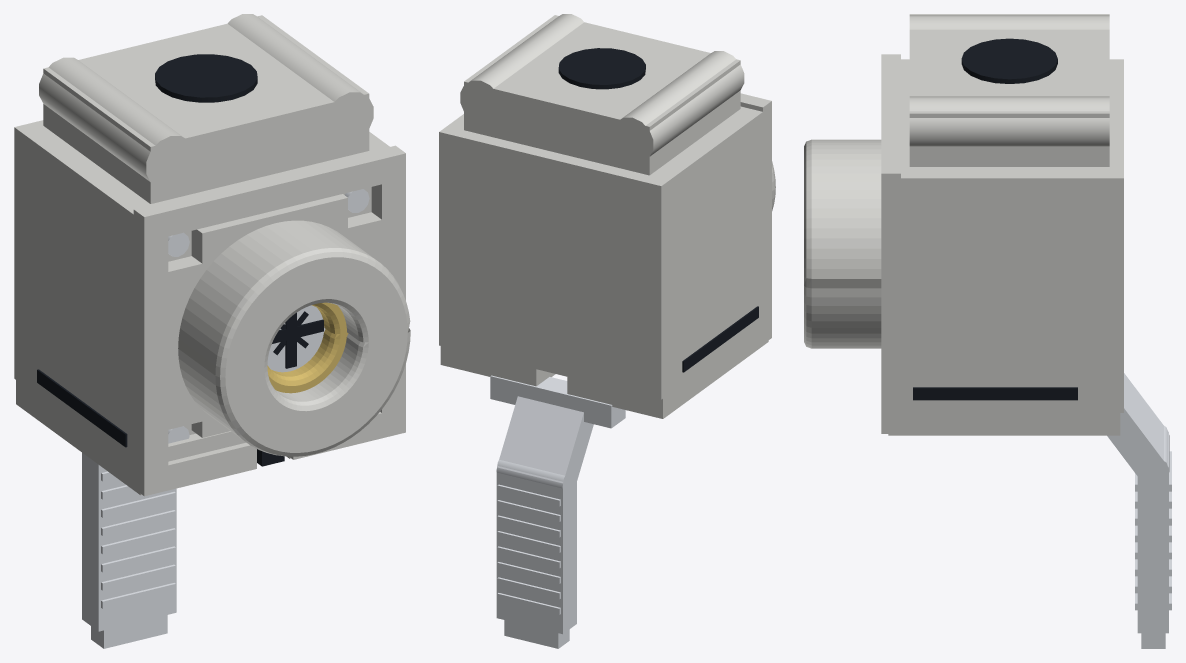
Rendered from conector-barramento-pente.glb.
3 views of the same model, side by side, from view 1: azimuth 30°, elevation 25°; view 2: azimuth 150°, elevation 25°; view 3: azimuth 270°, elevation 25° (orthographic). The views are drawn at different scales.
Visible parts, largest first — view 1: comb-connector-pa66, comb-connector-tinned-pin, comb-connector-bore, comb-connector-cage; view 2: comb-connector-pa66, comb-connector-tinned-pin, comb-connector-bore; view 3: comb-connector-pa66, comb-connector-tinned-pin, comb-connector-bore.
Boxes of the visible parts, <box> form: comb-connector-pa66: <box>14,14,410,496</box>; comb-connector-tinned-pin: <box>82,189,369,648</box>; comb-connector-bore: <box>37,54,323,466</box>; comb-connector-cage: <box>267,302,348,393</box>; comb-connector-pa66: <box>439,14,775,418</box>; comb-connector-tinned-pin: <box>490,375,625,648</box>; comb-connector-bore: <box>558,48,758,372</box>; comb-connector-pa66: <box>804,14,1123,435</box>; comb-connector-tinned-pin: <box>1107,373,1171,648</box>; comb-connector-bore: <box>913,38,1077,400</box>.
Size of what is drawn, in the model's own units: 0.016 by 0.0356 by 0.0206.
